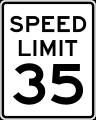Speed Limit -35-: (7, 11, 89, 109)
